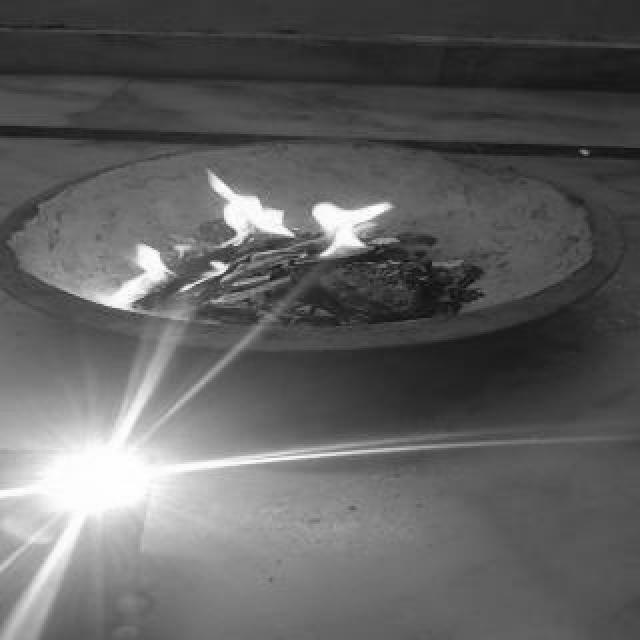Fire: (110, 172, 408, 306)
